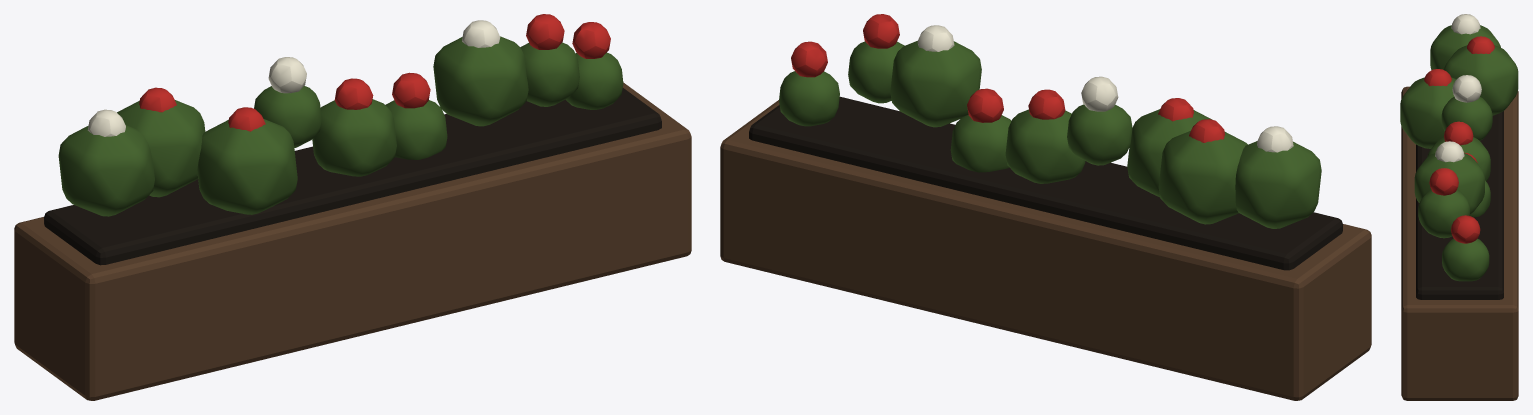
File: blumenkasten.glb
3 views of the same model, side by side, from view 1: azimuth 30°, elevation 25°; view 2: azimuth 150°, elevation 25°; view 3: azimuth 270°, elevation 25° (orthographic). The views are drawn at different scales.
Visible parts, largest first — view 1: blumenkasten; view 2: blumenkasten; view 3: blumenkasten.
Boxes of the visible parts, x1,y1,x2,y2 form: blumenkasten: (14, 14, 691, 400); blumenkasten: (720, 14, 1371, 400); blumenkasten: (1400, 14, 1518, 400).
Bounding box in the file's own units: 0.9 × 0.3643 × 0.2023.
